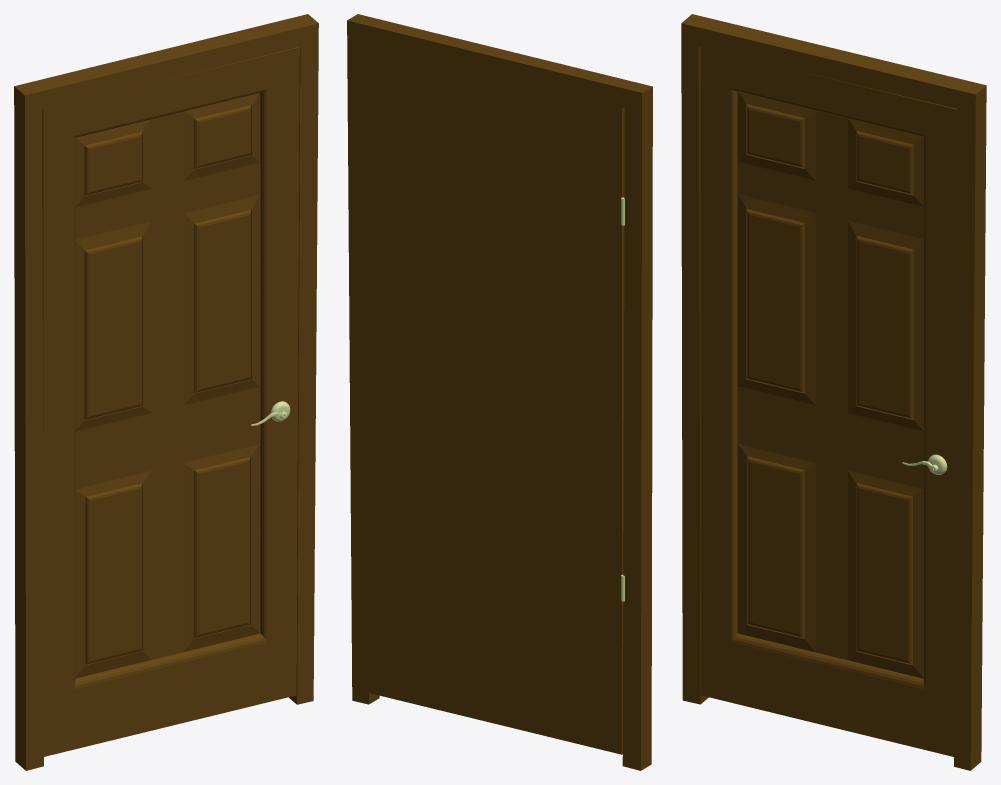
Rendered from dooranimations.fbx.
The picture shows the model from 3 angles, left to right: view 1: azimuth 30°, elevation 25°; view 2: azimuth 150°, elevation 25°; view 3: azimuth 330°, elevation 25°; orthographic projection.
Parts seen in each view (by area): view 1: Plane.001, Plane.003; view 2: Plane.001, Plane.003; view 3: Plane.001, Plane.003.
Part boxes in pixels (bbox=[...]): Plane.001: bbox=[42, 47, 299, 756]; Plane.003: bbox=[14, 14, 318, 770]; Plane.001: bbox=[365, 44, 624, 754]; Plane.003: bbox=[347, 14, 652, 770]; Plane.001: bbox=[700, 47, 957, 756]; Plane.003: bbox=[681, 14, 986, 770].
Bounding box in the file's own units: 204 × 449 × 19.17.
